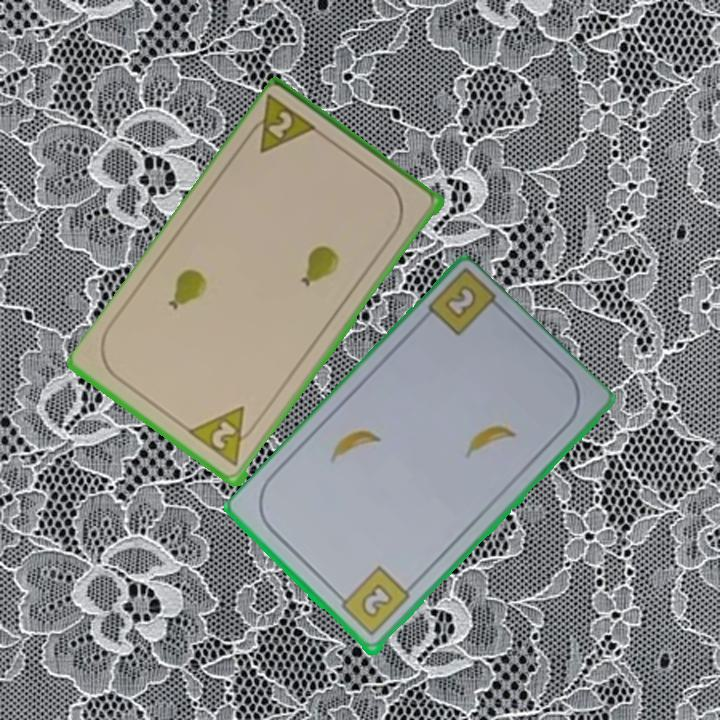2b: (333, 563, 413, 640), (440, 282, 480, 323)
2p: (187, 403, 262, 470), (264, 107, 296, 142)
